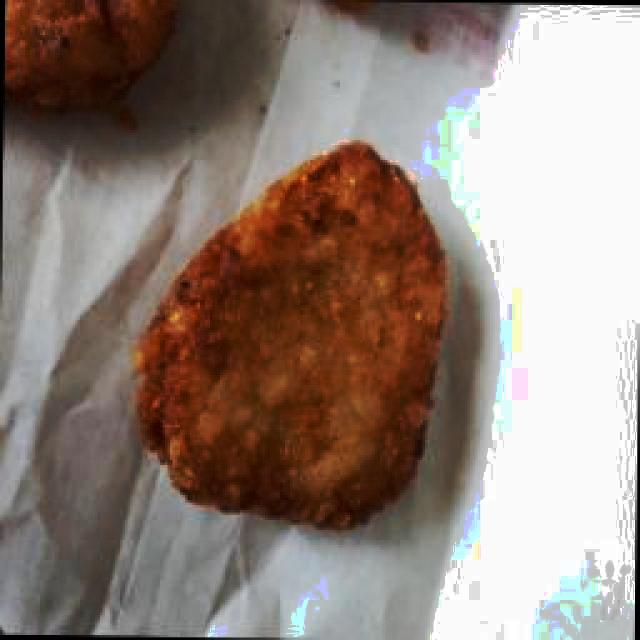Hashbrown: (130, 137, 449, 532), (2, 1, 182, 132)
